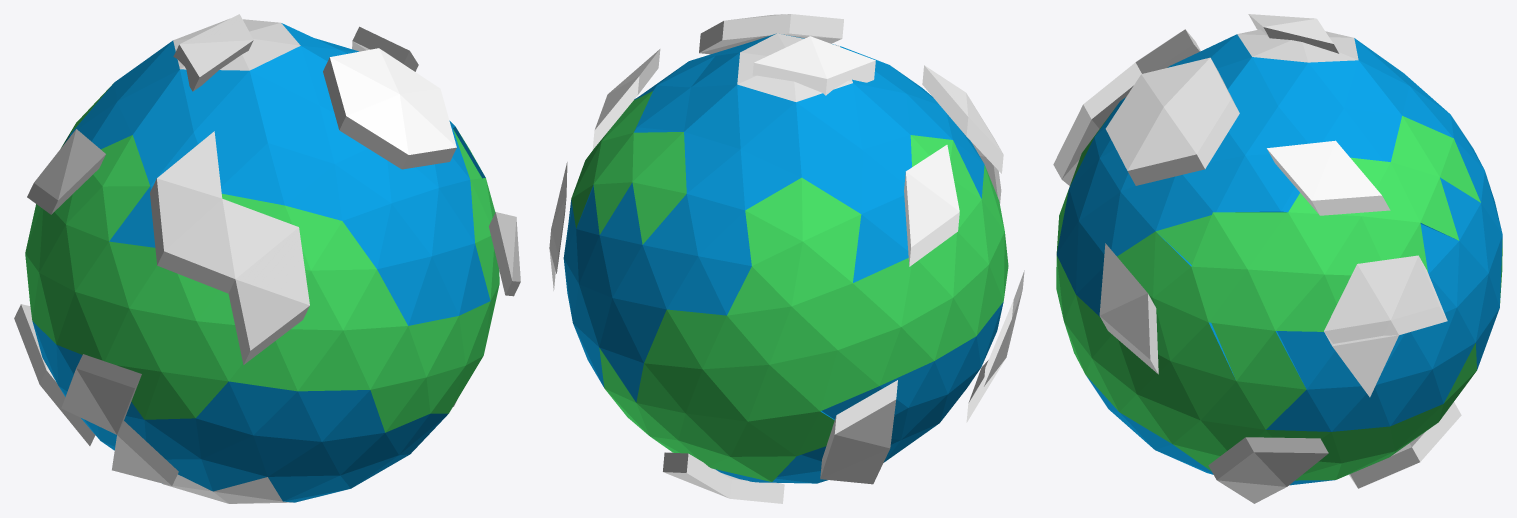
The picture shows the model from 3 angles, left to right: view 1: azimuth 30°, elevation 25°; view 2: azimuth 150°, elevation 25°; view 3: azimuth 270°, elevation 25°; orthographic projection. The views are drawn at different scales.
Visible parts, largest first — view 1: Icosphere, Icosphere.001; view 2: Icosphere, Icosphere.001; view 3: Icosphere, Icosphere.001.
Boxes of the visible parts, x1=… form: Icosphere: x1=25, y1=18, x2=499, y2=503; Icosphere.001: x1=14, y1=14, x2=520, y2=485; Icosphere: x1=563, y1=33, x2=1008, y2=483; Icosphere.001: x1=549, y1=14, x2=1024, y2=503; Icosphere: x1=1056, y1=29, x2=1502, y2=485; Icosphere.001: x1=1053, y1=14, x2=1461, y2=503.
Size of the model in its own units: 416 by 431 by 397.
